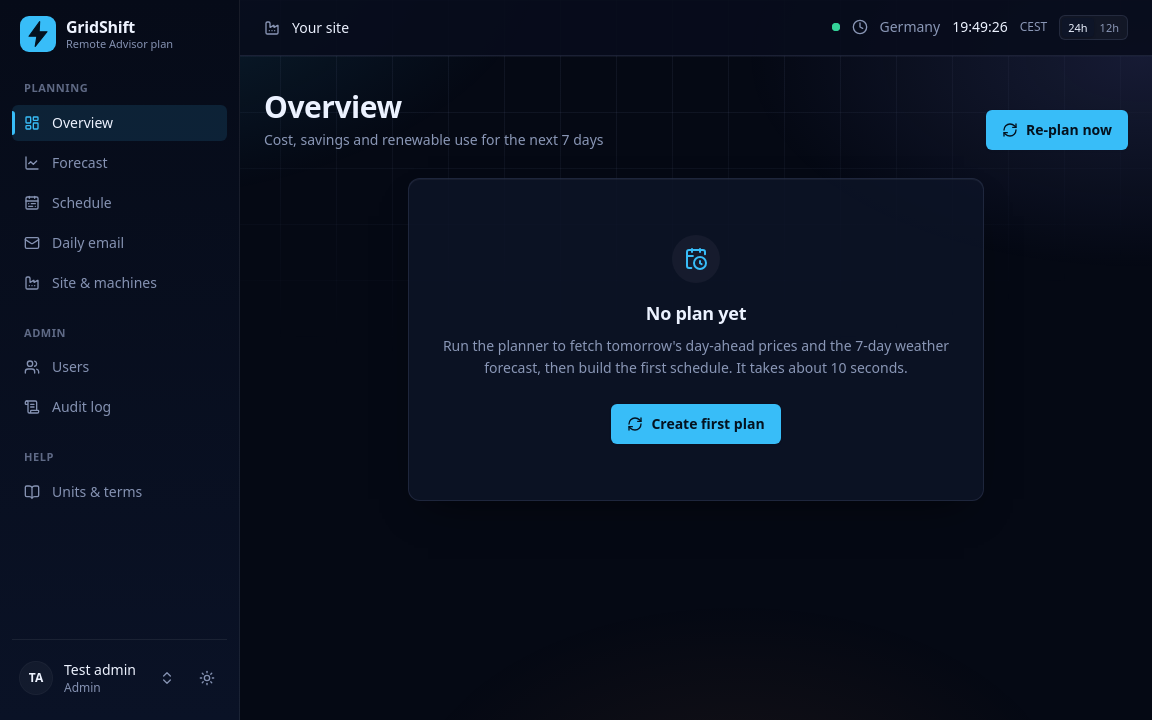
Test: App › offers to create the first plan when none exists
Click the button "Create first plan" at (696, 424), box [611, 404, 781, 444]
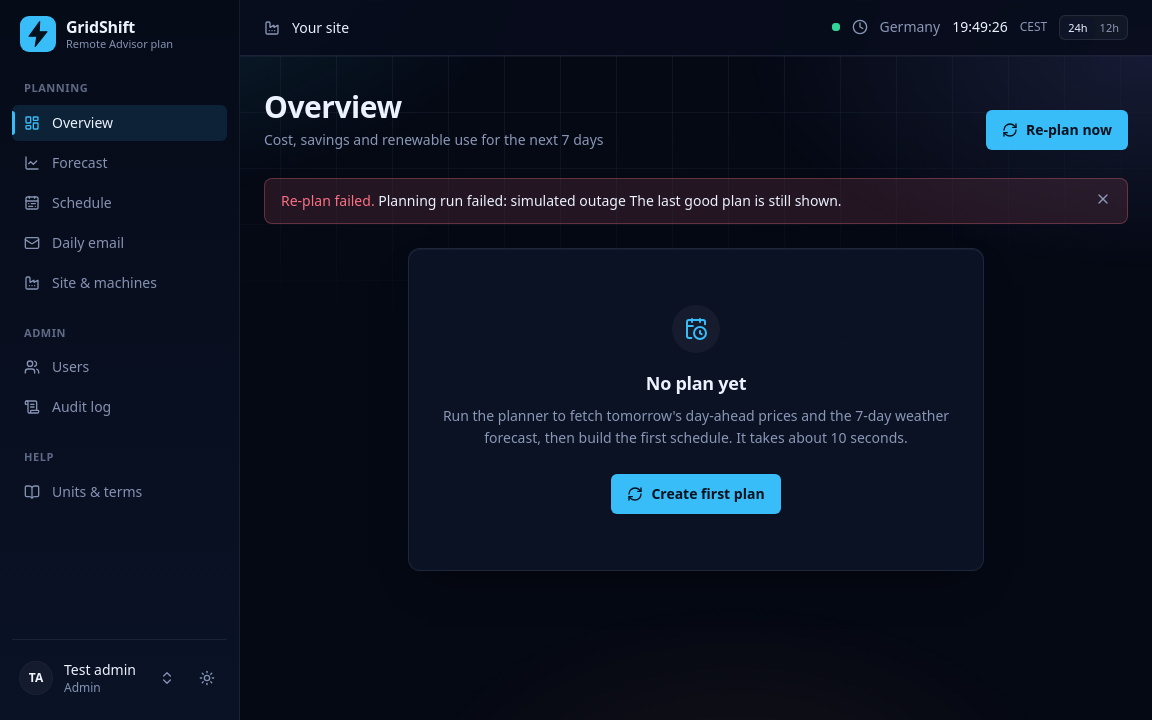
Expected: the message shows "simulated outage", [378, 190, 626, 210]
